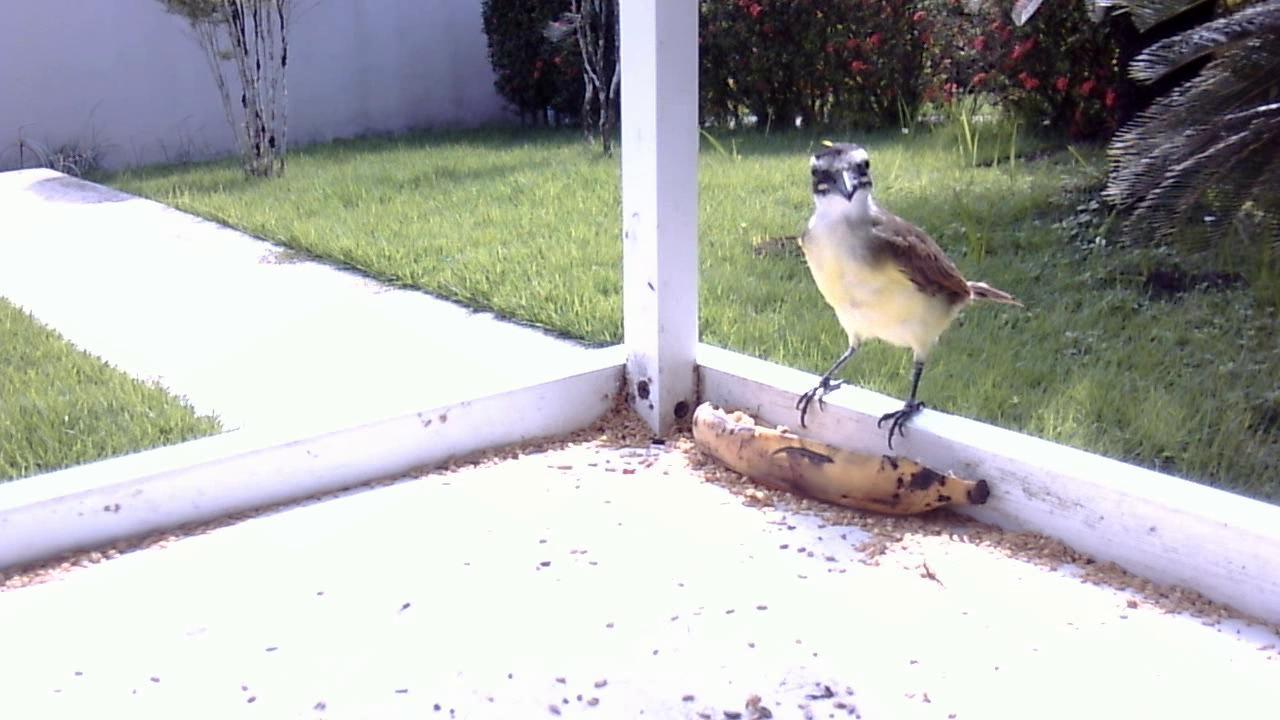bem_te_vi: (767, 135, 1025, 457)
